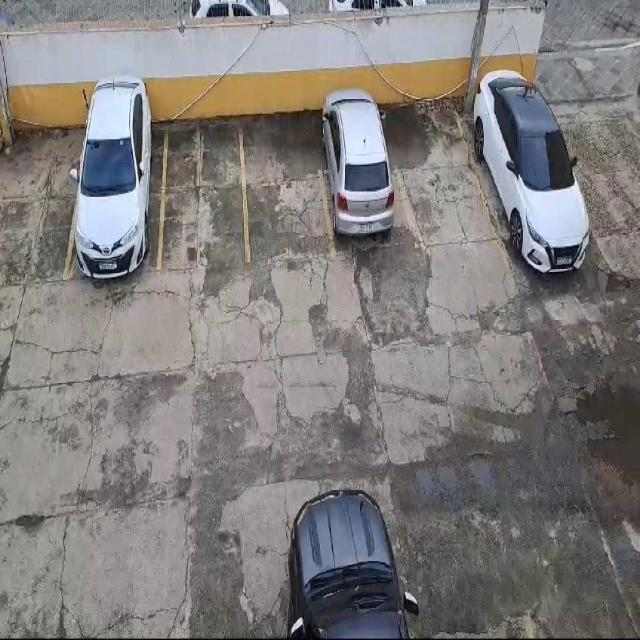empty: (379, 100, 505, 255), (240, 113, 335, 261), (158, 115, 248, 269)
notEmpty: (453, 94, 593, 255), (66, 120, 167, 278), (313, 103, 417, 254)
